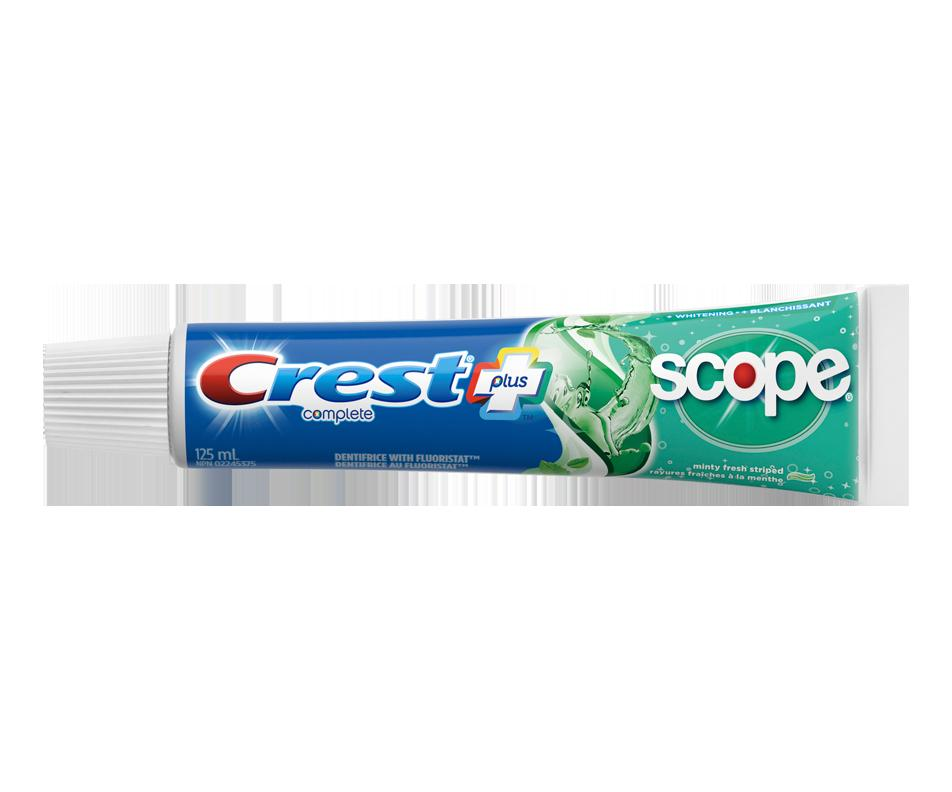toothpaste: (34, 284, 920, 511)
